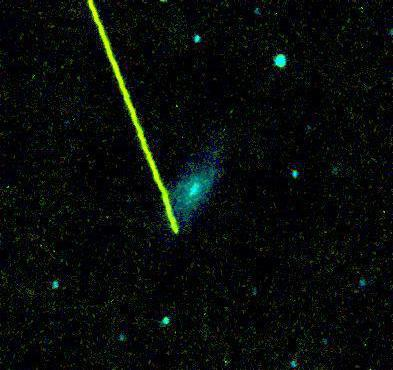star: (158, 211, 188, 241)
